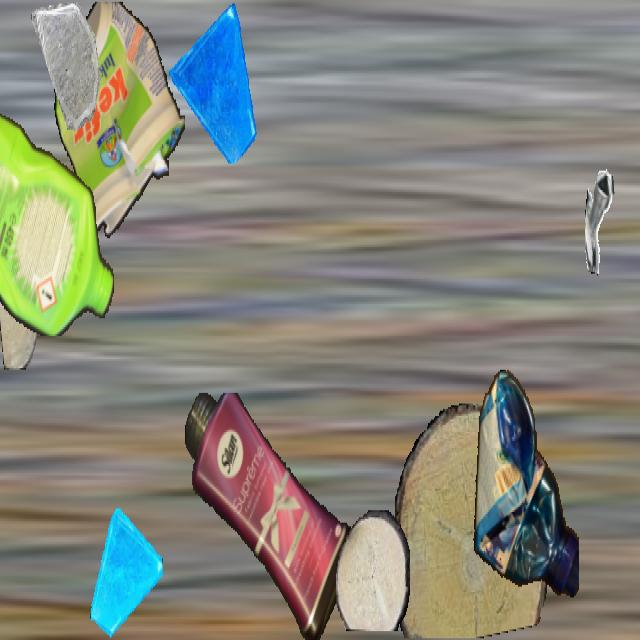glass: (169, 2, 259, 162), (88, 507, 162, 638), (31, 2, 103, 130)
metal: (585, 169, 640, 279)
plastic: (184, 393, 356, 638), (53, 2, 185, 247), (0, 100, 115, 334), (470, 366, 578, 608)
wood: (391, 404, 551, 638), (336, 510, 410, 631), (0, 238, 37, 370)
